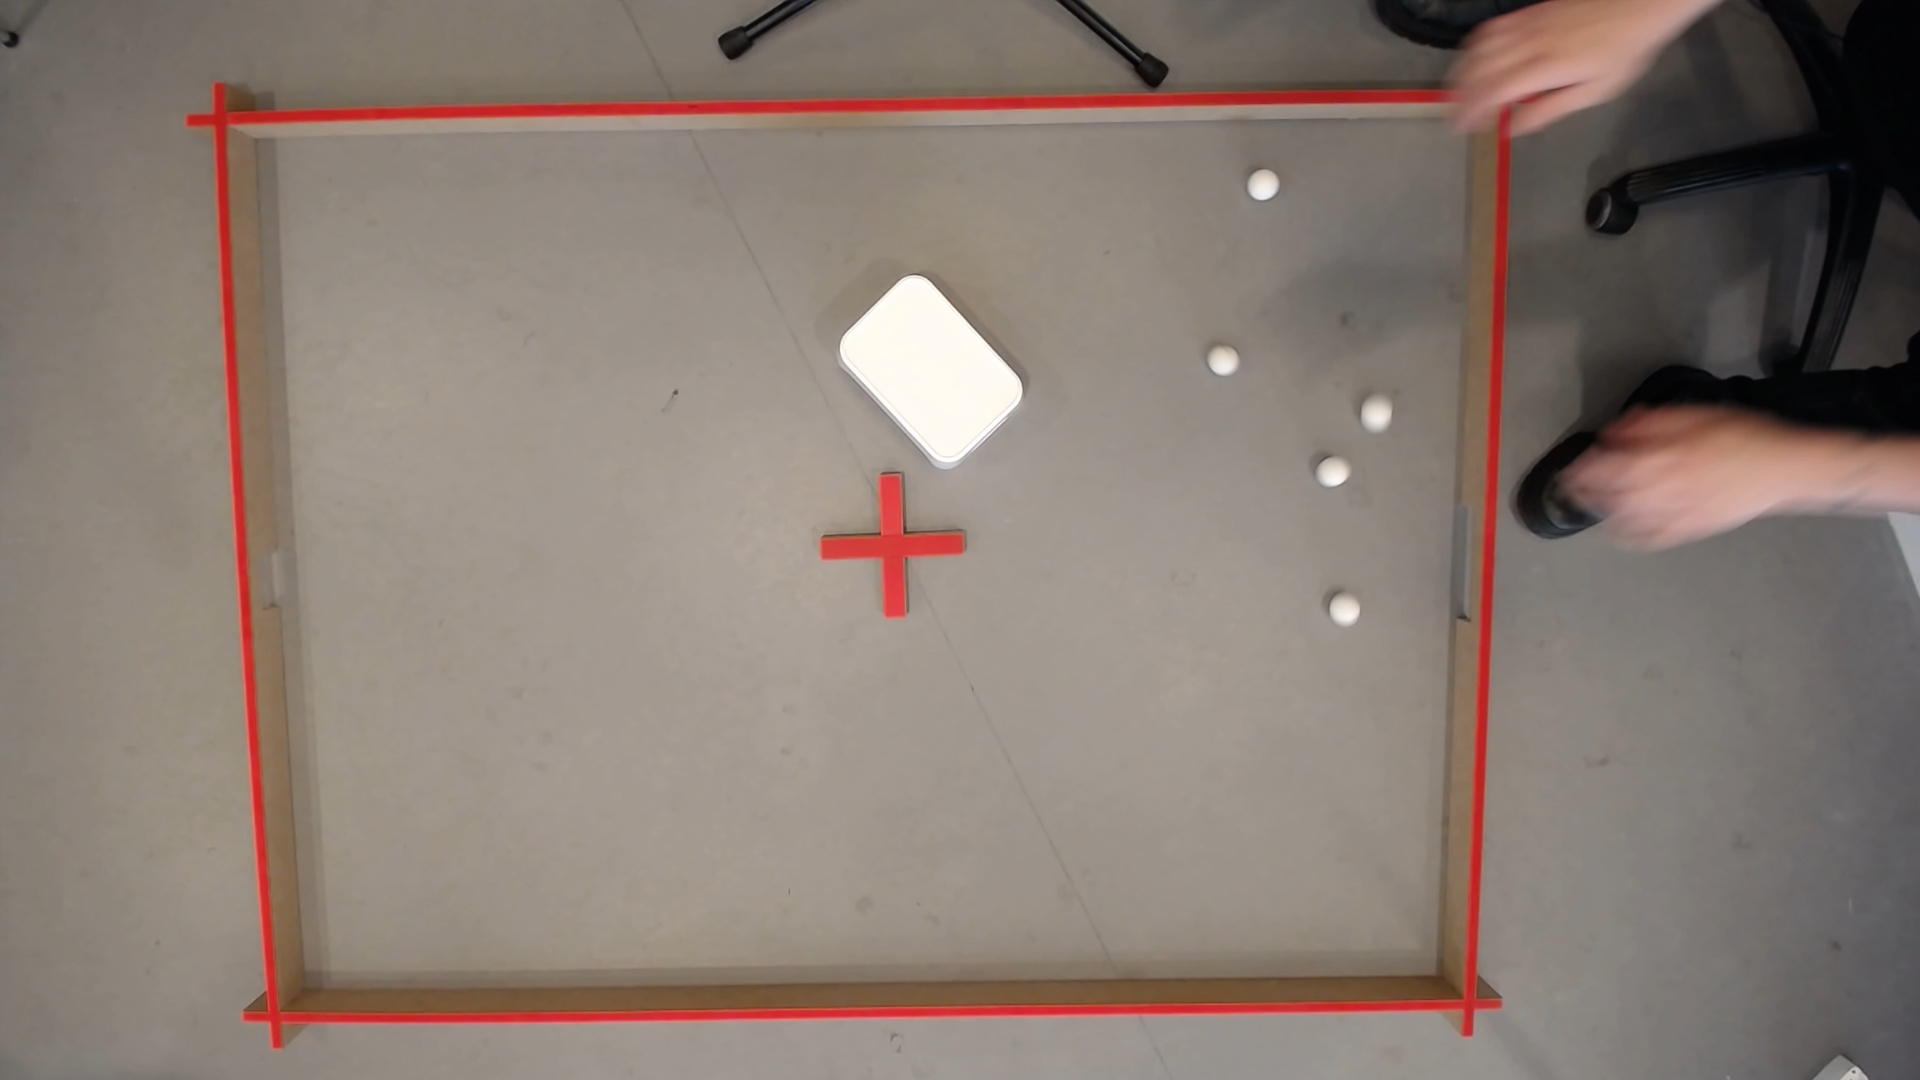balls: (827, 264, 1034, 473), (1502, 51, 1613, 98), (1245, 167, 1280, 204), (1327, 593, 1361, 628), (1358, 398, 1393, 431), (1321, 464, 1346, 485)
car: (1212, 352, 1236, 373)
